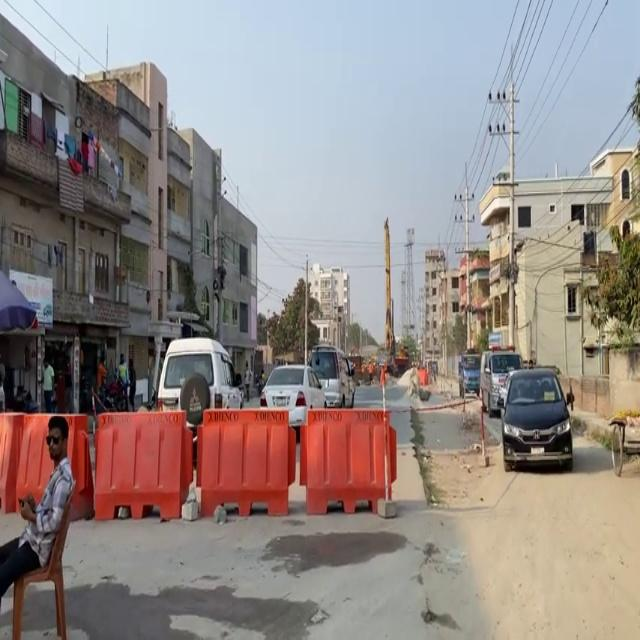Broken-road: (494, 356, 600, 490)
Construction-barrier: (409, 394, 501, 508), (412, 396, 475, 412)
Fallen-tree: (100, 374, 130, 412)
Garbage: (92, 409, 192, 520), (195, 407, 295, 517), (299, 407, 397, 516), (0, 411, 93, 520)
Garbage-bin: (0, 415, 75, 611)
Light-pole: (380, 216, 412, 377)
Pothole: (412, 368, 639, 638)
Traffic-cone: (391, 344, 409, 377)
